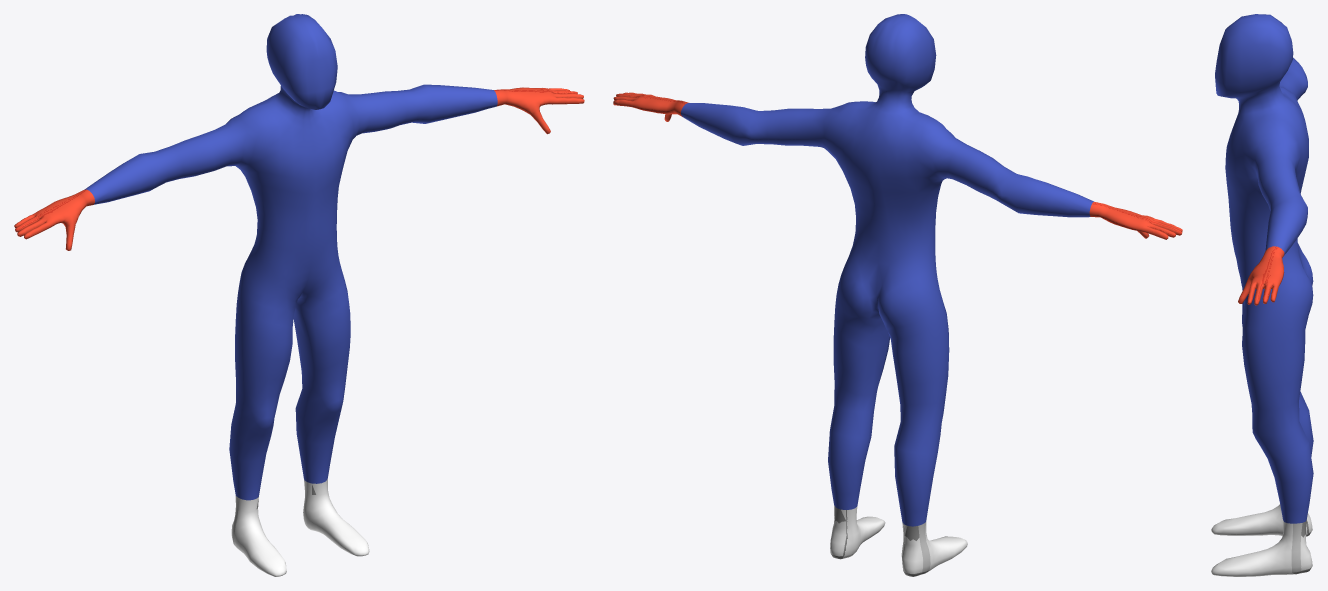
The model's file is char_05_milestone.gltf.
3 renders of one model, left to right at view 1: azimuth 30°, elevation 25°; view 2: azimuth 150°, elevation 25°; view 3: azimuth 270°, elevation 25°, orthographic.
Parts seen in each view (by area): view 1: Mesh; view 2: Mesh; view 3: Mesh.
Part boxes in pixels (x1=…): Mesh: x1=14, y1=14, x2=584, y2=576; Mesh: x1=613, y1=14, x2=1182, y2=576; Mesh: x1=1211, y1=14, x2=1313, y2=576.
Bounding box in the file's own units: 195 × 175 × 30.23.
3 materials, 3 textured.
